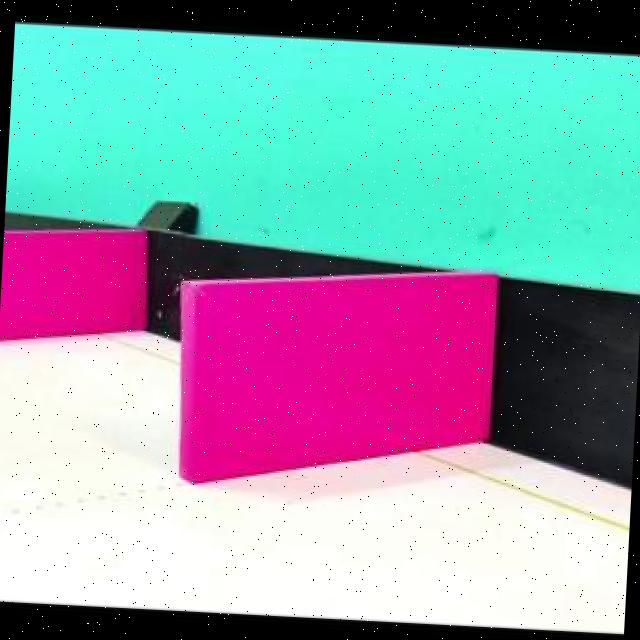xparking: (188, 292, 485, 486), (6, 240, 140, 346)
